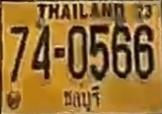0: (67, 25, 86, 78)
4: (30, 25, 51, 79)
5: (89, 24, 108, 79)
6: (111, 24, 131, 78), (133, 24, 153, 78)
7: (10, 26, 29, 81)
CBI: (58, 82, 102, 113)
